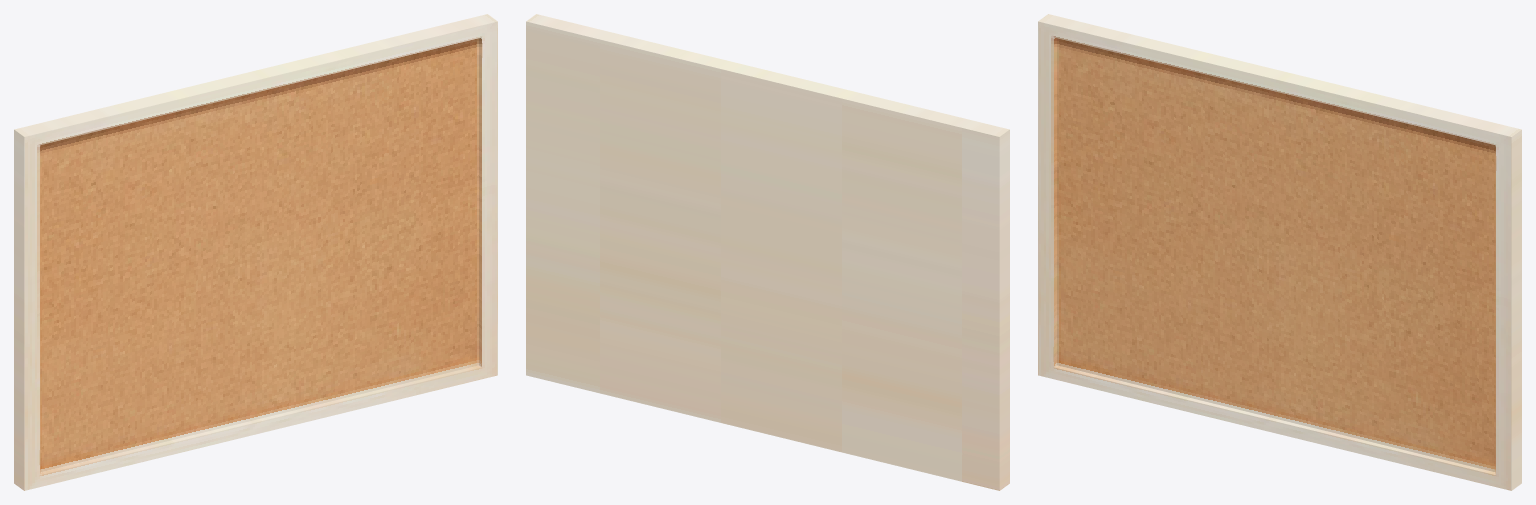
The model's file is corcho.glb.
3 renders of one model, left to right at view 1: azimuth 30°, elevation 25°; view 2: azimuth 150°, elevation 25°; view 3: azimuth 330°, elevation 25°, orthographic.
Visible parts, largest first — view 1: Cube; view 2: Cube; view 3: Cube.
Boxes of the visible parts, bbox=[...] form: Cube: bbox=[14, 14, 497, 490]; Cube: bbox=[526, 14, 1009, 490]; Cube: bbox=[1038, 14, 1521, 490].
Size of the model in its own units: 6.95 by 4.96 by 0.2602.
1 material, 1 textured.
